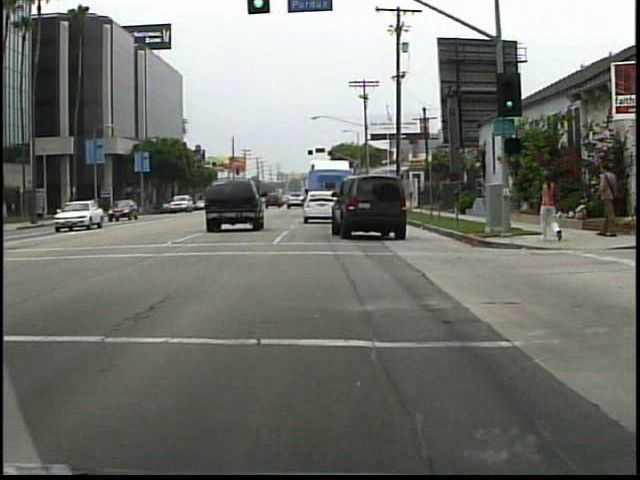person: (530, 170, 566, 247), (591, 156, 622, 242)
